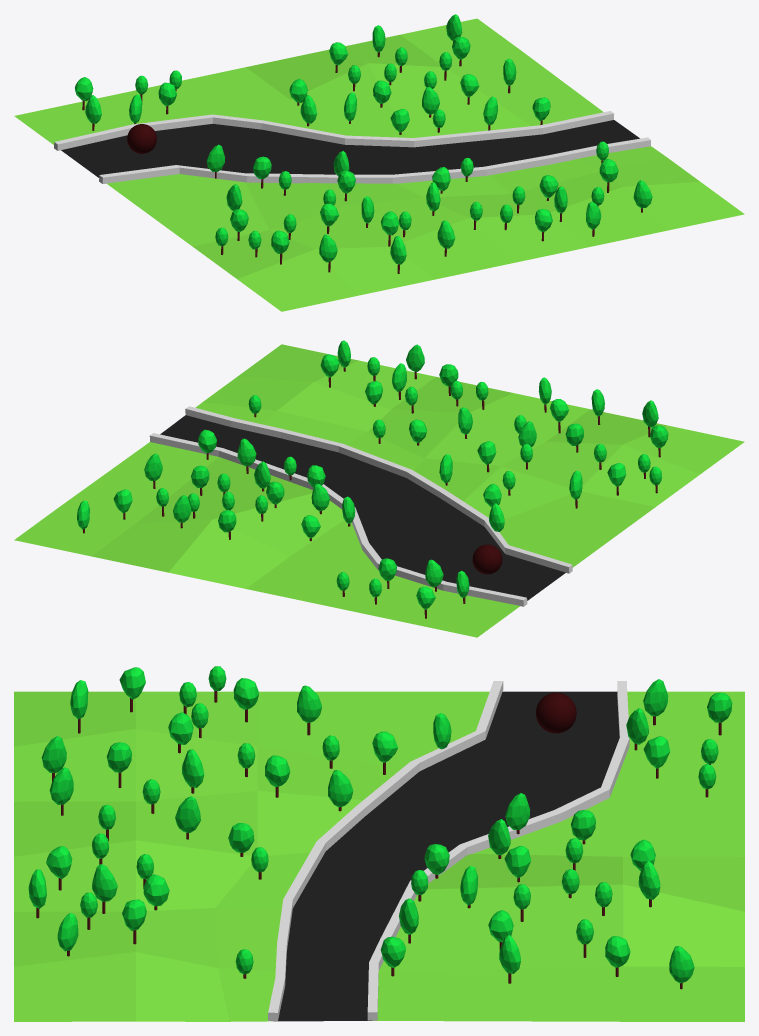
Rendered from timepass.glb.
3 renders of one model, top to bottom at view 1: azimuth 30°, elevation 25°; view 2: azimuth 150°, elevation 25°; view 3: azimuth 270°, elevation 25°, orthographic. The views are drawn at different scales.
Parts seen in each view (by area): view 1: Plane, Cube.002, Cube.001, Sphere; view 2: Plane, Cube.001, Cube.002, Sphere; view 3: Plane, Cube.001, Cube.002, Sphere, Icosphere.053, Icosphere.031, Icosphere.028, Icosphere.001, Icosphere.040, Icosphere.010, Icosphere.063, Icosphere.043 (+25 smaller).
Boxes of the visible parts, left/top/right/bottom form: Plane: left=14, top=18, right=744, bottom=311; Cube.002: left=54, top=111, right=613, bottom=150; Cube.001: left=99, top=137, right=650, bottom=183; Sphere: left=127, top=124, right=156, bottom=153; Plane: left=14, top=344, right=744, bottom=637; Cube.001: left=185, top=406, right=572, bottom=573; Cube.002: left=149, top=433, right=527, bottom=606; Sphere: left=472, top=544, right=502, bottom=574; Plane: left=14, top=691, right=744, bottom=1021; Cube.001: left=268, top=681, right=503, bottom=1021; Cube.002: left=367, top=681, right=629, bottom=1020; Sphere: left=535, top=692, right=576, bottom=733; Icosphere.053: left=92, top=864, right=117, bottom=901; Icosphere.031: left=328, top=770, right=353, bottom=807; Icosphere.028: left=297, top=685, right=321, bottom=722; Icosphere.001: left=669, top=946, right=694, bottom=983; Icosphere.040: left=175, top=796, right=200, bottom=832; Icosphere.010: left=505, top=793, right=530, bottom=829; Icosphere.063: left=643, top=679, right=667, bottom=716; Icosphere.043: left=41, top=736, right=66, bottom=772.
Size of the model in its own units: 150 by 17.93 by 149.
